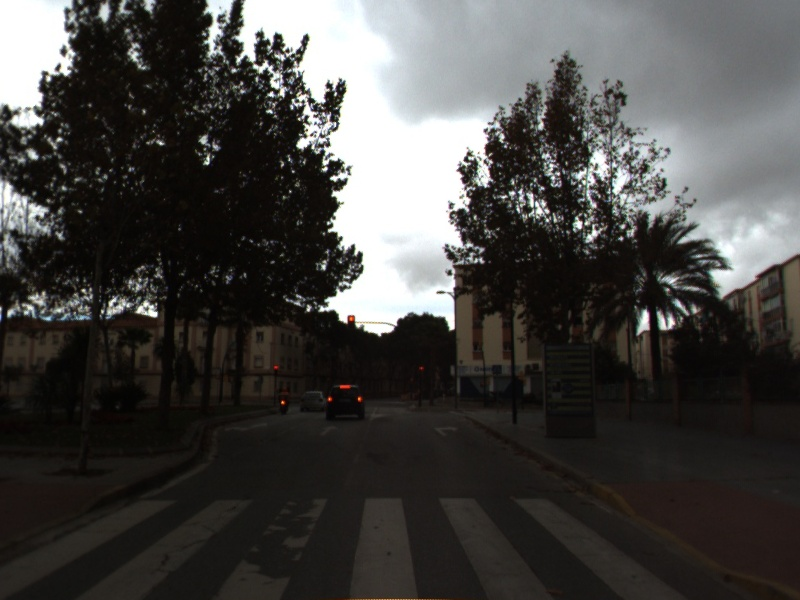RIGHT: (431, 423, 461, 439)
STRAIGHT: (316, 423, 341, 439)
STRAIGHT_LEFT: (222, 420, 270, 434)
